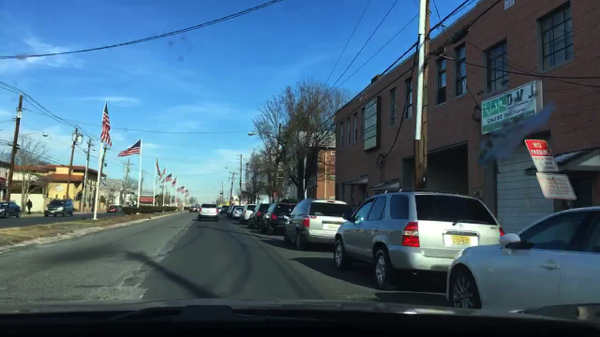car: (445, 205, 599, 324), (332, 190, 507, 290), (282, 198, 356, 249), (262, 202, 297, 234), (43, 198, 75, 217), (253, 202, 272, 227), (196, 203, 220, 222), (0, 202, 23, 219), (244, 203, 257, 222), (233, 206, 244, 218), (228, 206, 240, 216), (106, 206, 121, 213), (222, 203, 229, 213), (190, 206, 198, 213), (216, 205, 222, 213)
person: (25, 198, 34, 217)
traffic sign: (524, 139, 558, 172), (535, 174, 577, 200)
